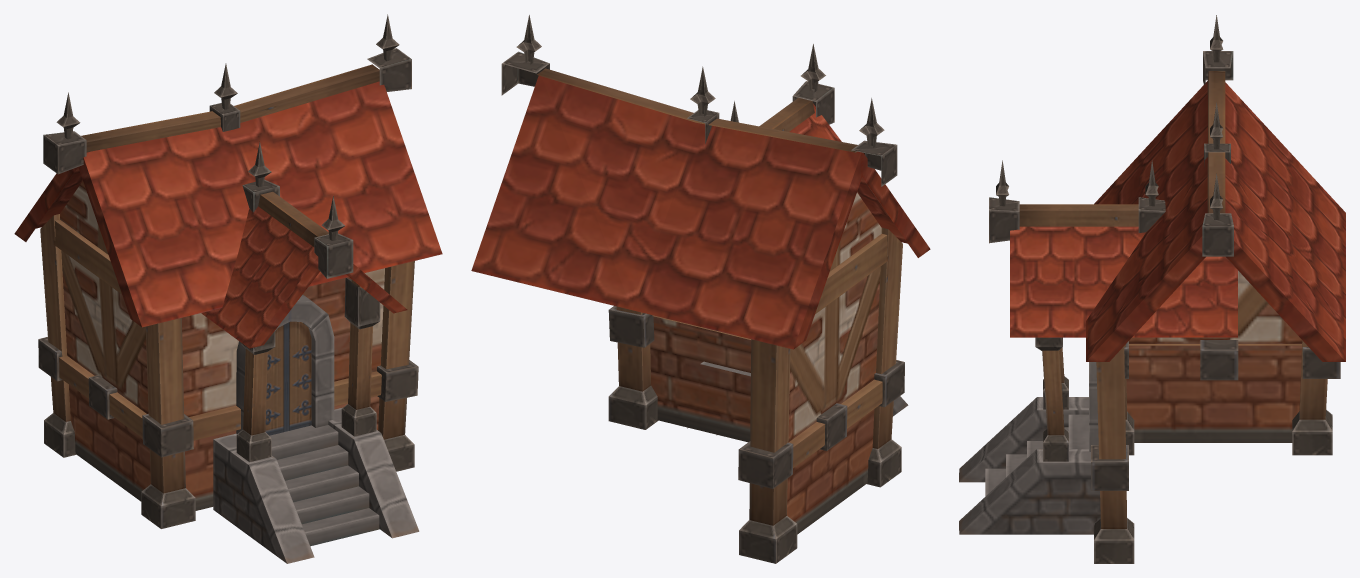
File: paran_house_guild.FBX
3 renders of one model, left to right at view 1: azimuth 30°, elevation 25°; view 2: azimuth 150°, elevation 25°; view 3: azimuth 270°, elevation 25°, orthographic. The views are drawn at different scales.
Visible parts, largest first — view 1: Object021; view 2: Object021; view 3: Object021.
Boxes of the visible parts, x1=… form: Object021: x1=14, y1=14, x2=442, y2=563; Object021: x1=471, y1=15, x2=930, y2=563; Object021: x1=959, y1=15, x2=1345, y2=563.
Size of the model in its own units: 158 by 147 by 172.
